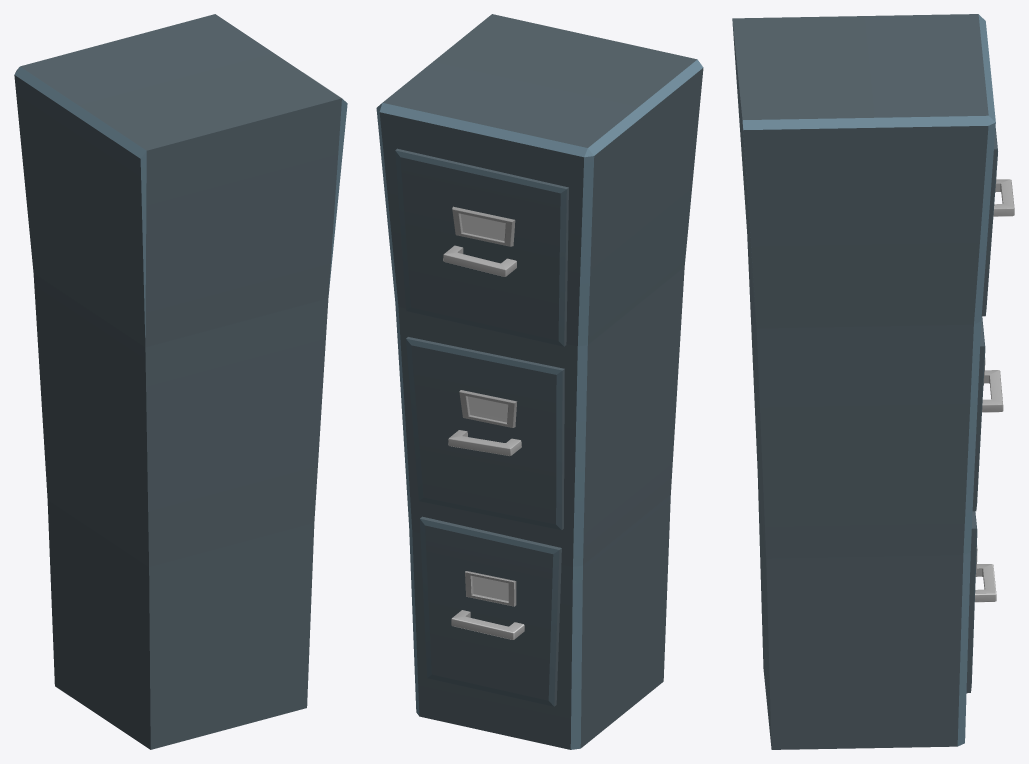
The model's file is SM_Cabinet_1x3.fbx.
The picture shows the model from 3 angles, left to right: view 1: azimuth 30°, elevation 25°; view 2: azimuth 150°, elevation 25°; view 3: azimuth 270°, elevation 25°; orthographic projection. The views are drawn at different scales.
Visible parts, largest first — view 1: SM_Cabinet_1x3; view 2: SM_Cabinet_1x3; view 3: SM_Cabinet_1x3.
Part boxes in pixels (left/top/right/bottom): SM_Cabinet_1x3: left=14, top=14, right=347, bottom=749; SM_Cabinet_1x3: left=376, top=14, right=703, bottom=749; SM_Cabinet_1x3: left=732, top=14, right=1014, bottom=749.
Bounding box in the file's own units: 64.97 × 173 × 69.04.
2 materials, 2 textured.
